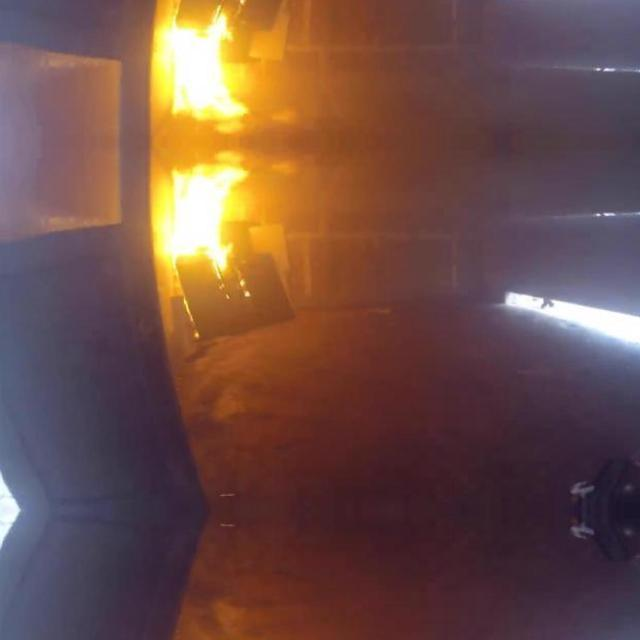smoke: (162, 146, 248, 276), (162, 8, 248, 138)
